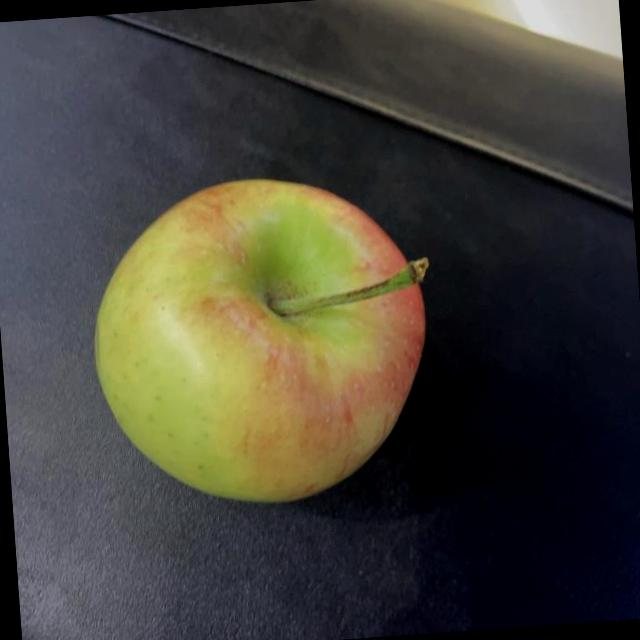Apple: (72, 145, 452, 525)
